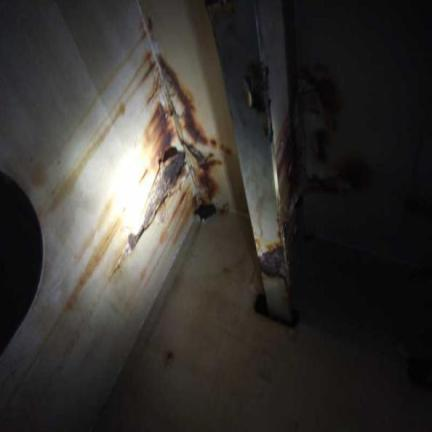besi_tidak_karat: (168, 0, 248, 216)
karat: (127, 148, 185, 249), (162, 59, 208, 143), (186, 144, 221, 203), (144, 103, 175, 161)
